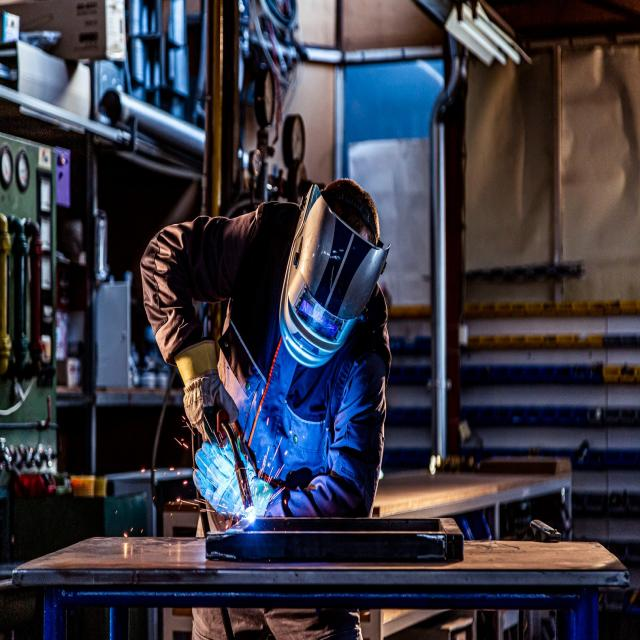welding: (244, 504, 258, 526)
